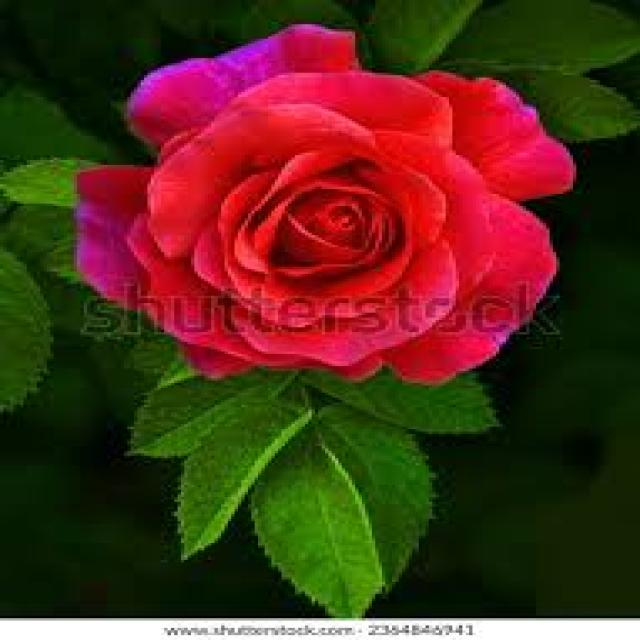rose: (54, 16, 588, 291)
